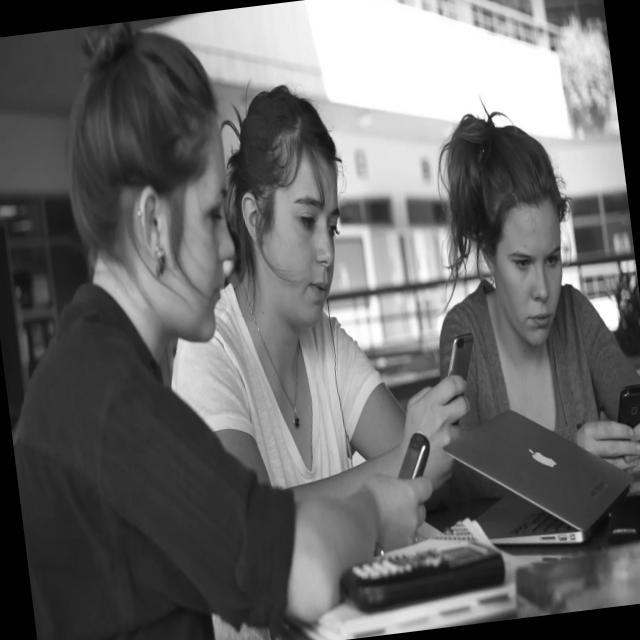phone: (442, 332, 479, 396), (392, 430, 434, 483), (613, 382, 640, 432)
